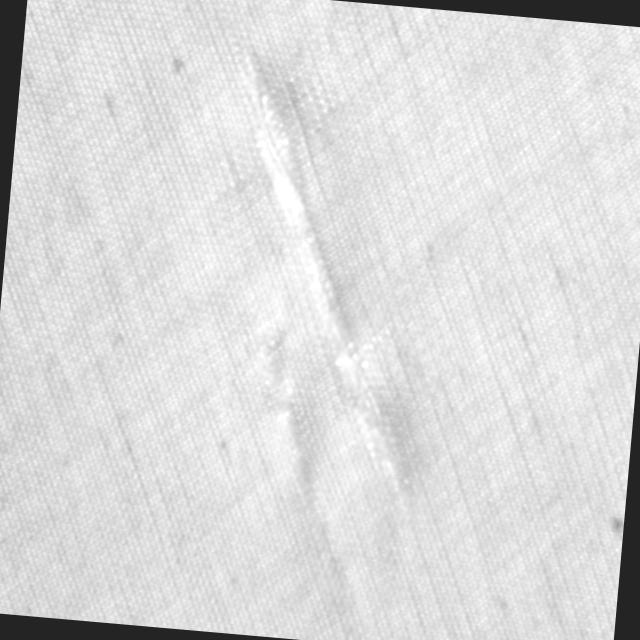thread error: (205, 44, 452, 492), (234, 308, 334, 496)
